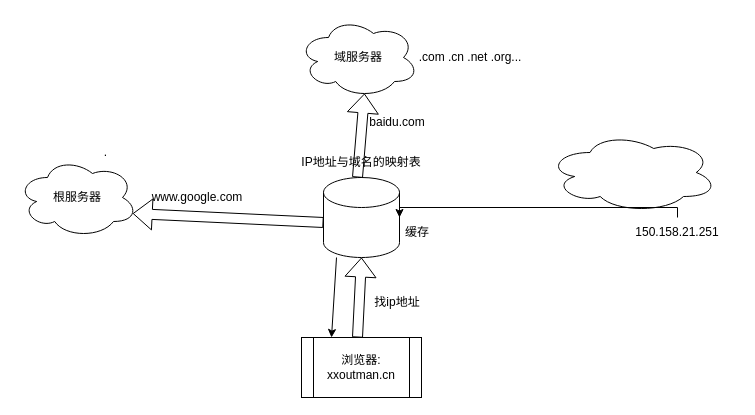
This 755x415 diagram has some shape labels left out. Each missing label, with the centre of its shape:
"DNS本地服务" goes at (361,217).
"xxoutman 子域名服务器" goes at (632,172).
